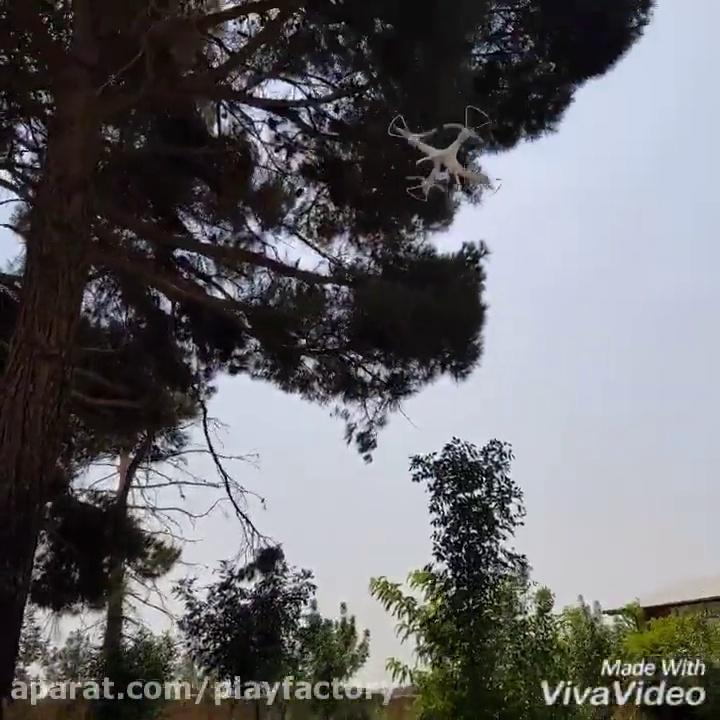drone: (388, 105, 502, 199)
